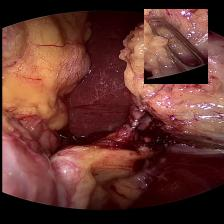Grasper: (142, 9, 206, 84)
